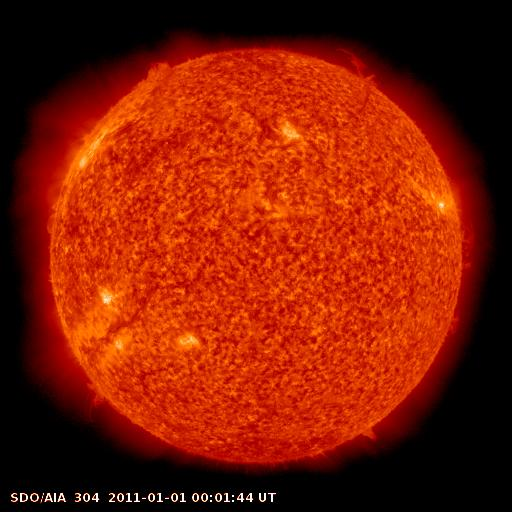prominence: (324, 39, 395, 105), (67, 368, 123, 419), (136, 48, 192, 94), (455, 209, 488, 284), (349, 411, 391, 452), (433, 306, 473, 343)
